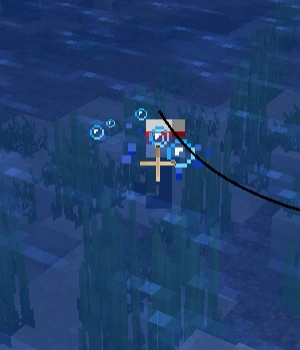up: (138, 115, 197, 213)
